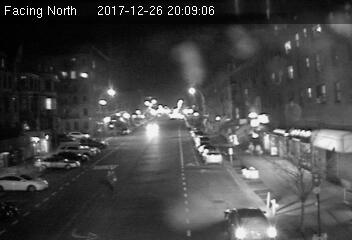car: (222, 204, 278, 240), (202, 149, 224, 165)
